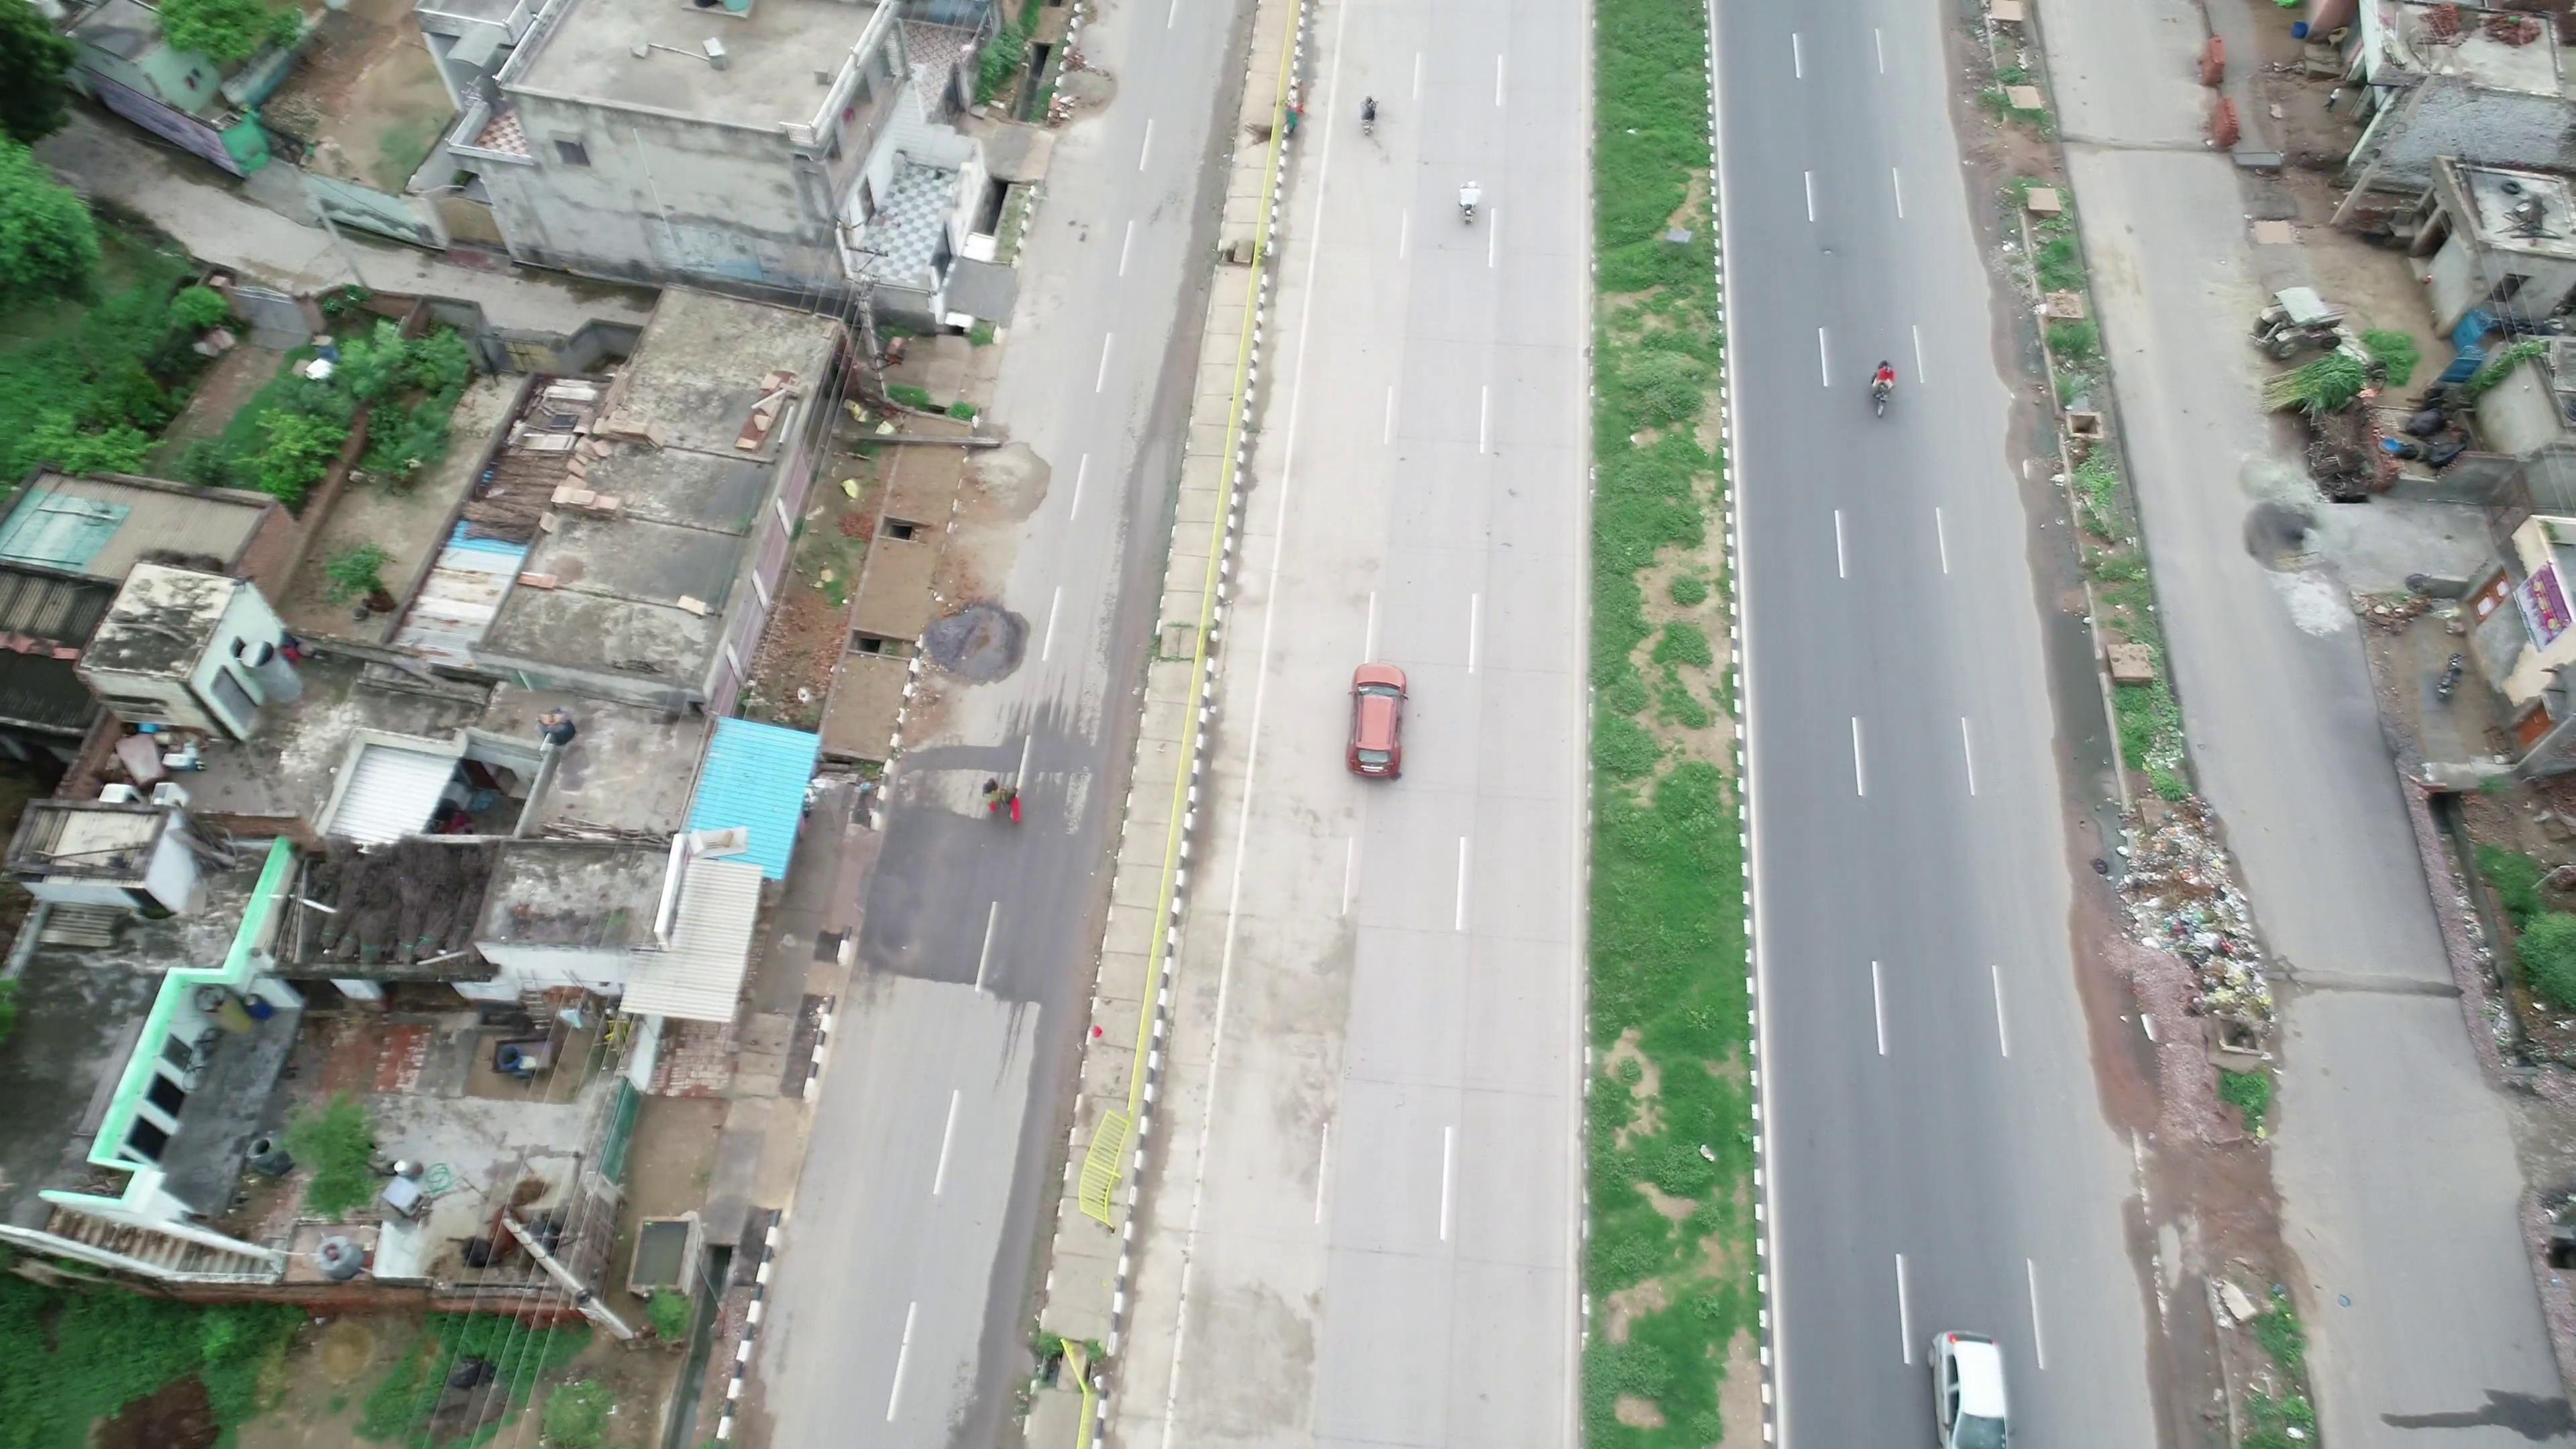Road_side_garbage: (2095, 784, 2273, 1019)
